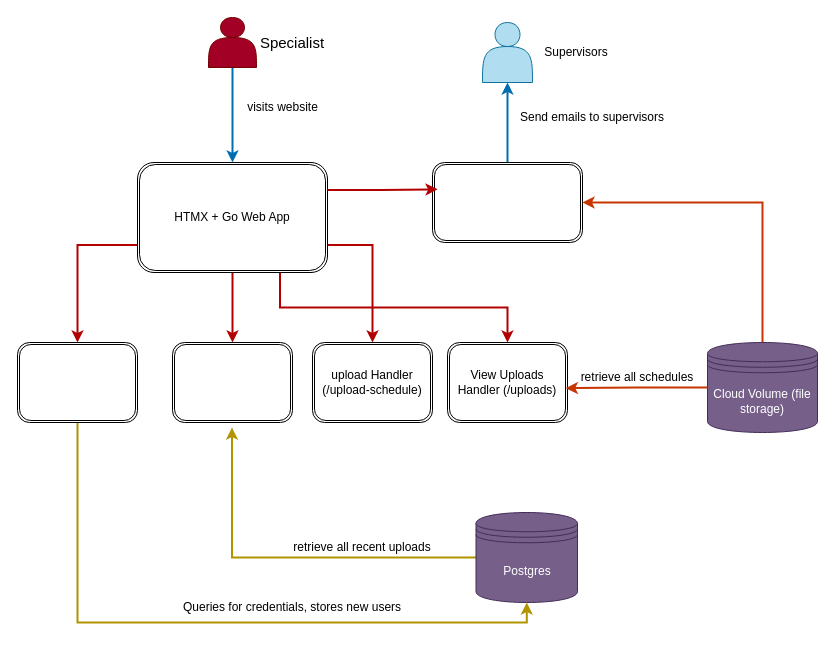
This 835x649 diagram has some shape labels left out. The centre of each missing label's shape, as x and y in pixels:
"Email Scheduler using Cron" belongs at point (507, 202).
"Home Handler (/home)" belongs at point (232, 382).
"Login Handler (/login)" belongs at point (77, 382).
